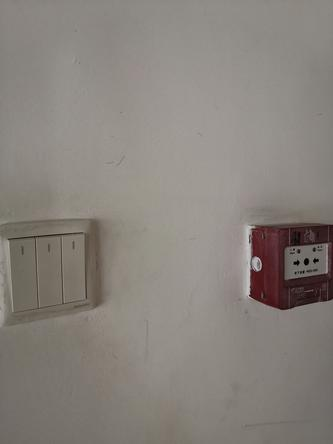switch: (5, 233, 40, 313), (32, 232, 68, 307), (57, 231, 89, 303)
